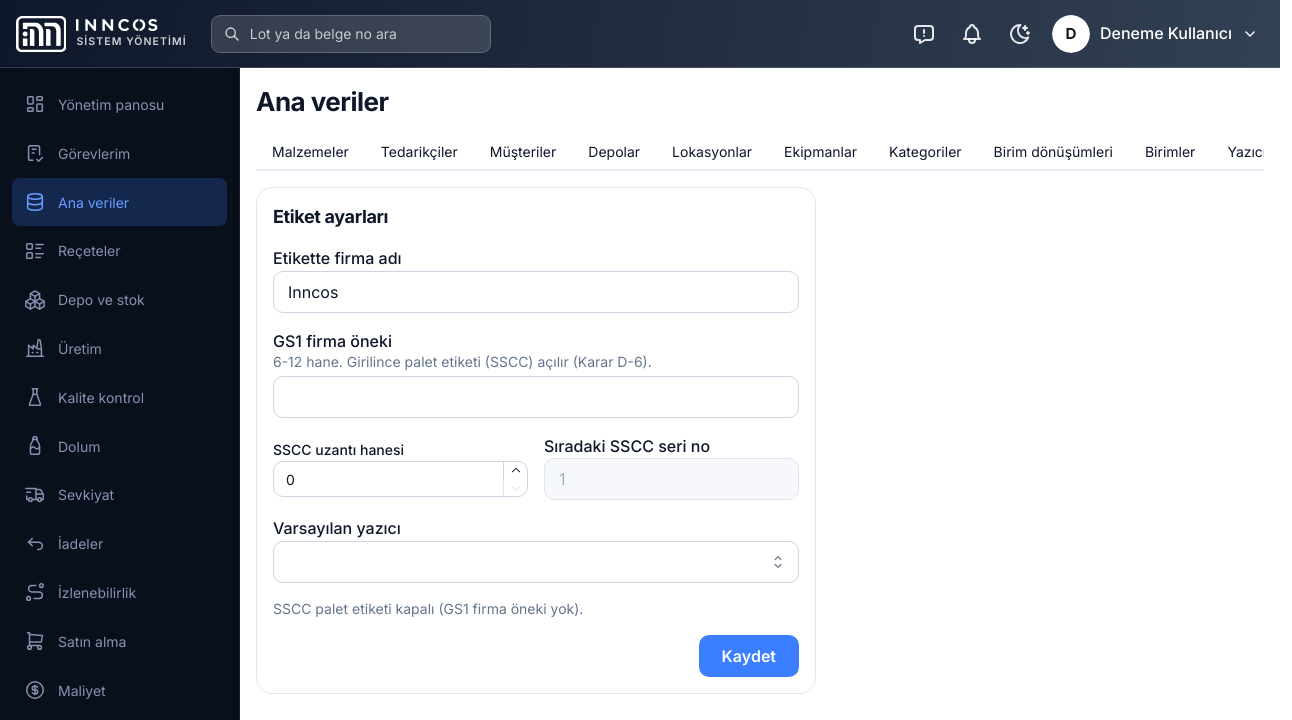
Scenario: ana veriler ekranı › etiket ayarlarını admin kaydeder, diğer roller yalnızca görür
Type "8690000" into the field labelled "GS1 firma öneki" at (536, 397), box top-left (273, 376), bottom-right (799, 418)
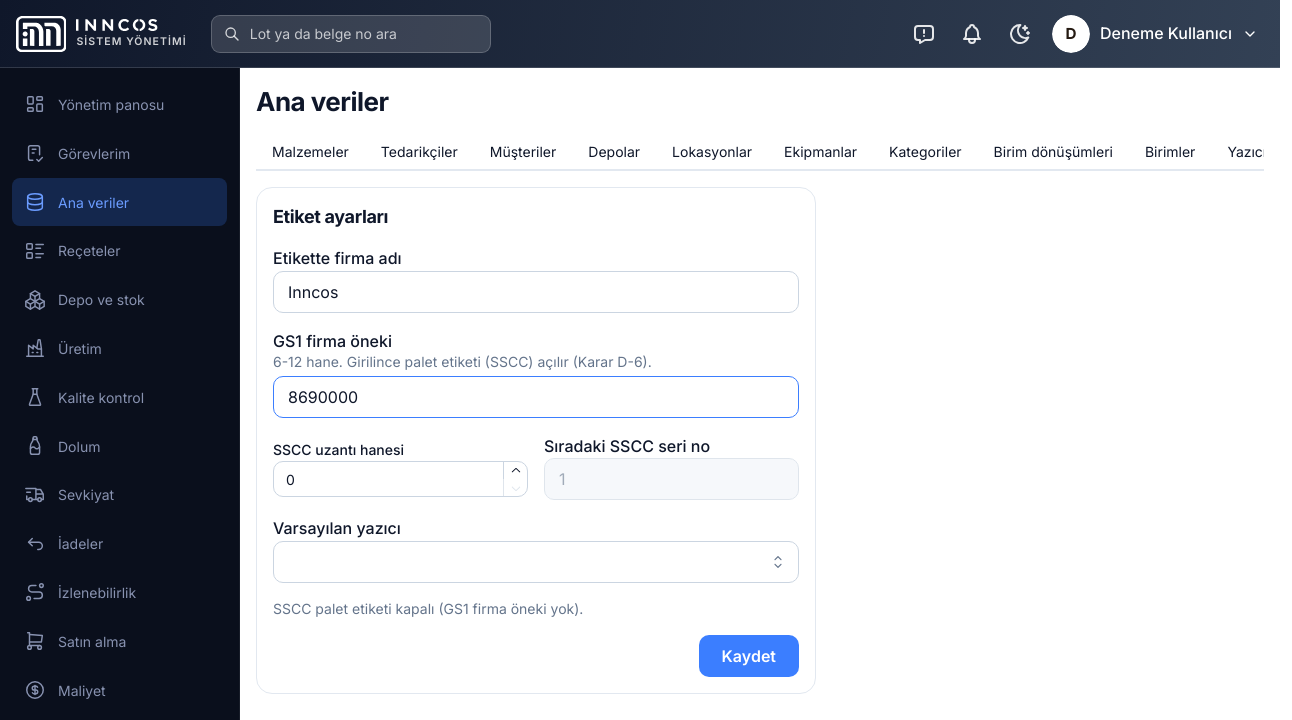
Click the button "Kaydet" at (749, 656), box top-left (699, 636), bottom-right (799, 678)
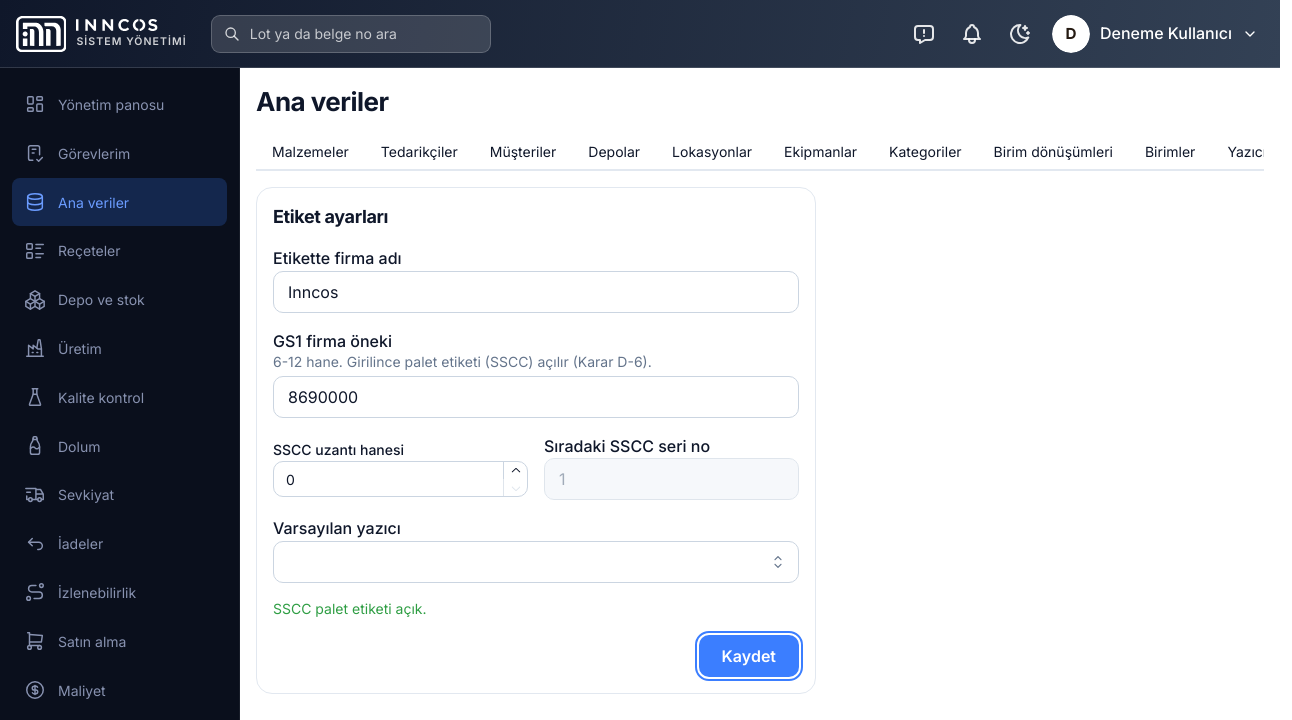
Check: the text "SSCC palet etiketi açık." is shown, box top-left (273, 600), bottom-right (426, 617)
